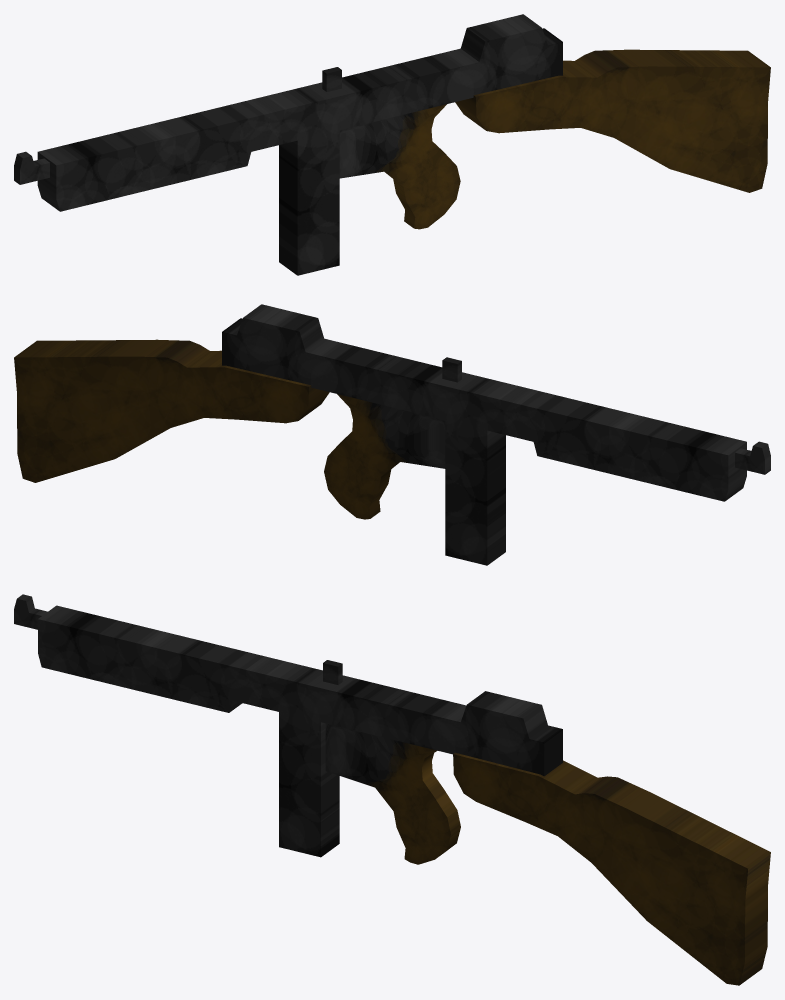
File: TommyGun.fbx
The picture shows the model from 3 angles, top to bottom: view 1: azimuth 30°, elevation 25°; view 2: azimuth 150°, elevation 25°; view 3: azimuth 330°, elevation 25°; orthographic projection.
Visible parts, largest first — view 1: TommyGun; view 2: TommyGun; view 3: TommyGun.
Boxes of the visible parts, x1,y1,x2,y2 form: TommyGun: (14, 14, 770, 275); TommyGun: (14, 304, 770, 565); TommyGun: (14, 594, 770, 985).
Size of the model in its own units: 12.81 by 3.52 by 0.682.
